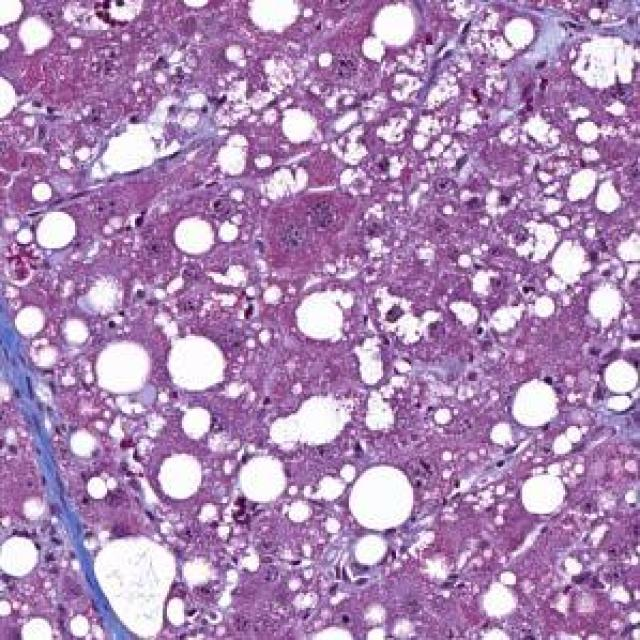fibrosis: (2, 358, 94, 558)
